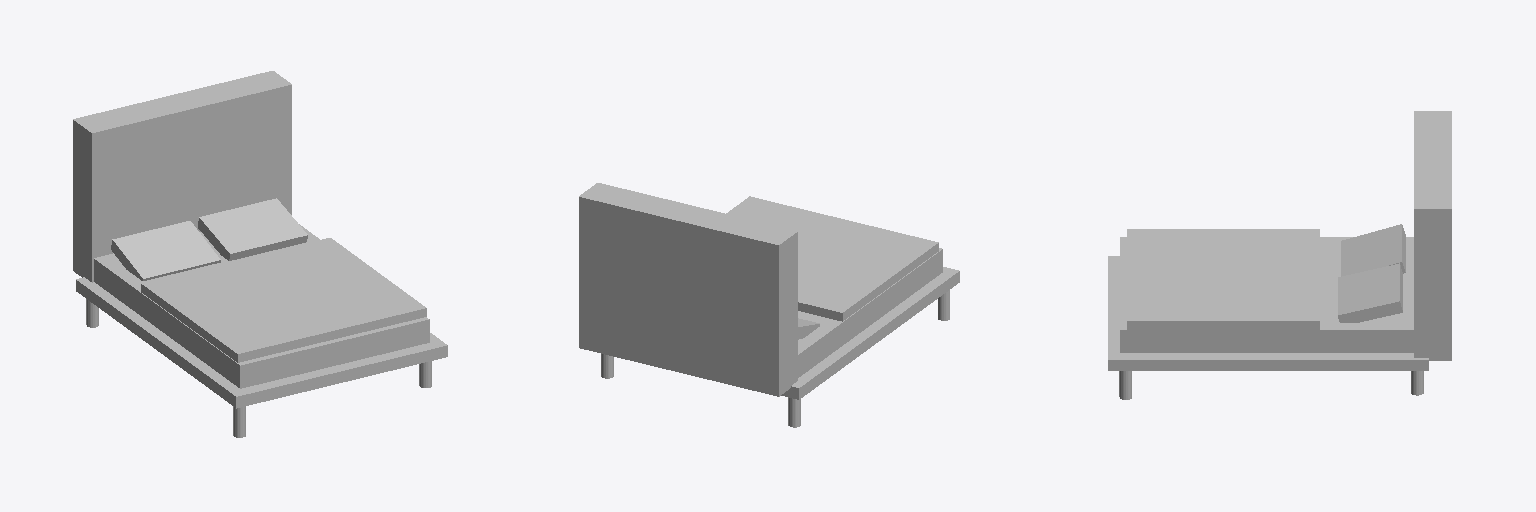
File: bed.obj
The picture shows the model from 3 angles: view 1: azimuth 30°, elevation 25°; view 2: azimuth 150°, elevation 25°; view 3: azimuth 270°, elevation 25°; orthographic projection.
Parts seen in each view (by area): view 1: Box2, Box5, Box1, Box, Box4, Box3; view 2: Box2, Box5, Box1, Box; view 3: Box5, Box1, Box2, Box, Box4, Box3.
Part boxes in pixels (left/top/right/bottom): Box2: left=73, top=71, right=291, bottom=282; Box5: left=141, top=238, right=426, bottom=362; Box1: left=94, top=224, right=429, bottom=388; Box: left=76, top=277, right=447, bottom=408; Box4: left=198, top=198, right=307, bottom=260; Box3: left=111, top=221, right=220, bottom=280; Box2: left=579, top=183, right=797, bottom=396; Box5: left=726, top=196, right=938, bottom=321; Box1: left=798, top=248, right=942, bottom=377; Box: left=781, top=267, right=959, bottom=399; Box5: left=1127, top=229, right=1319, bottom=332; Box1: left=1120, top=237, right=1413, bottom=352; Box2: left=1414, top=111, right=1451, bottom=360; Box: left=1108, top=256, right=1428, bottom=370; Box4: left=1338, top=263, right=1402, bottom=322; Box3: left=1341, top=224, right=1405, bottom=276.
Bounding box in the file's own units: 1.9 × 1.67 × 2.68.